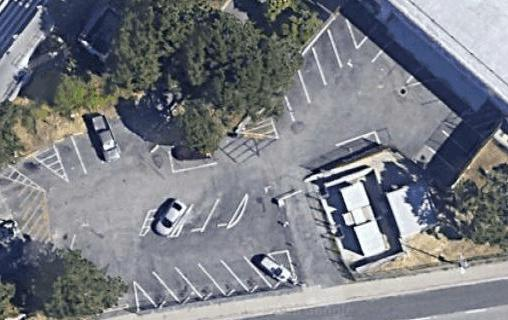parkingspot: (264, 8, 360, 143), (51, 104, 170, 184), (130, 250, 291, 309), (411, 109, 489, 194), (141, 191, 249, 240), (354, 20, 427, 89), (6, 154, 72, 195), (332, 130, 383, 166), (168, 141, 220, 174)
